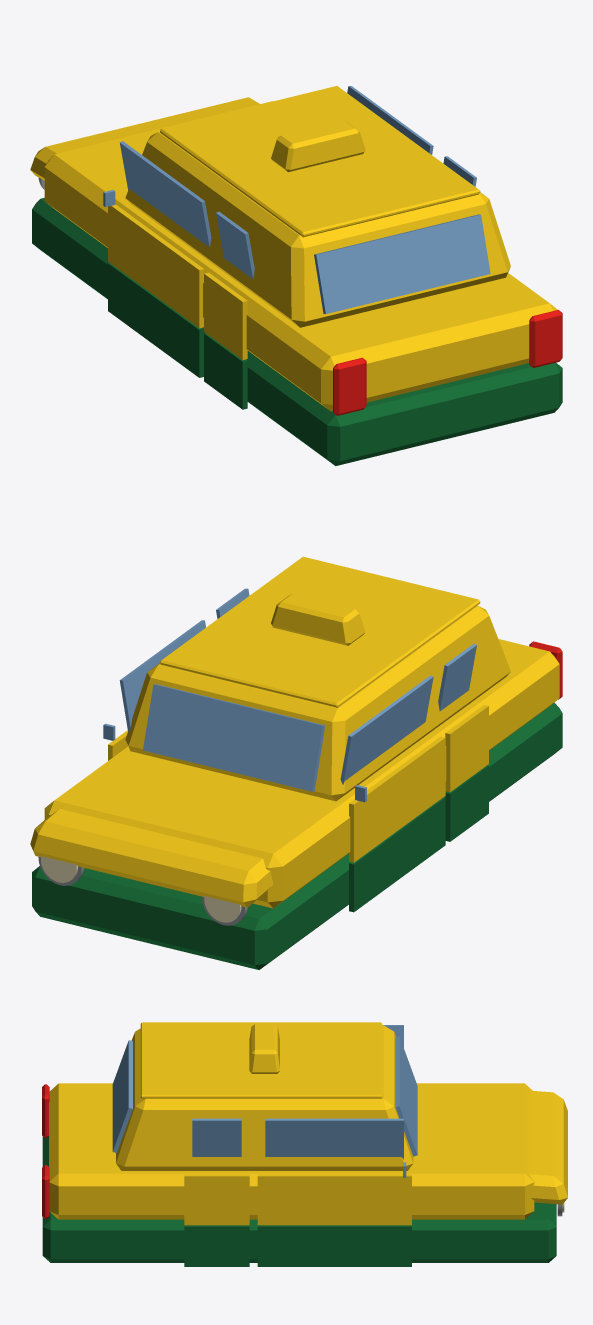
Rendered from veh_taxi.fbx.
3 views of the same model, one above another, from view 1: azimuth 30°, elevation 25°; view 2: azimuth 150°, elevation 25°; view 3: azimuth 270°, elevation 25° (orthographic). The views are drawn at different scales.
Visible parts, largest first — view 1: Body_LOD0, Door_FL, Door_RL, Door_FR; view 2: Body_LOD0, Door_FL, Door_RL, Door_FR; view 3: Body_LOD0, Door_FR, Door_RR.
Part boxes in pixels (left/top/right/bottom): Body_LOD0: left=30, top=86, right=562, bottom=465; Door_FL: left=108, top=141, right=211, bottom=377; Door_RL: left=204, top=211, right=254, bottom=409; Door_FR: left=347, top=86, right=433, bottom=154; Body_LOD0: left=30, top=556, right=562, bottom=969; Door_FL: left=340, top=675, right=445, bottom=912; Door_RL: left=438, top=644, right=488, bottom=841; Door_FR: left=108, top=620, right=205, bottom=760; Body_LOD0: left=42, top=1022, right=567, bottom=1262; Door_FR: left=257, top=1118, right=411, bottom=1266; Door_RR: left=184, top=1118, right=249, bottom=1266.
Size of what is drawn, in the model's own units: 1.62 by 1.55 by 3.55.
Materials: 1 (1 with a texture image).
